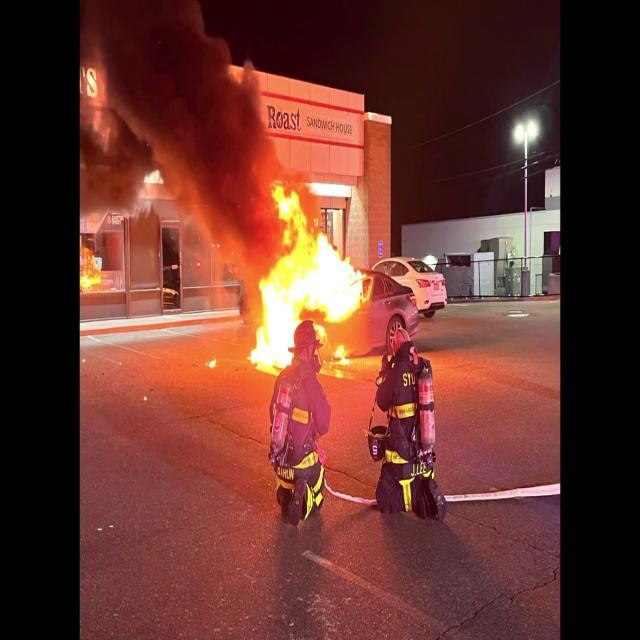Fire: (243, 166, 371, 370)
Smoke: (80, 0, 279, 261)
